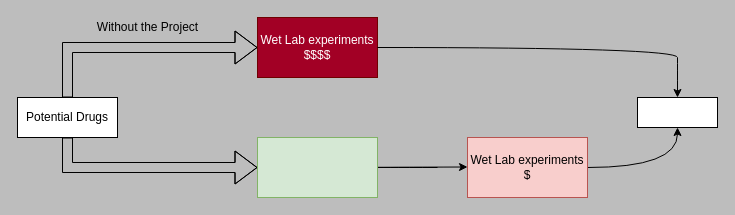
Image size: 735x215. Some labels were removed from this diagram. The centre of each missing label's shape, as x and y in pixels:
Select the most promising drugs using ML Models: point 317,167
Target Drug: point 677,112
